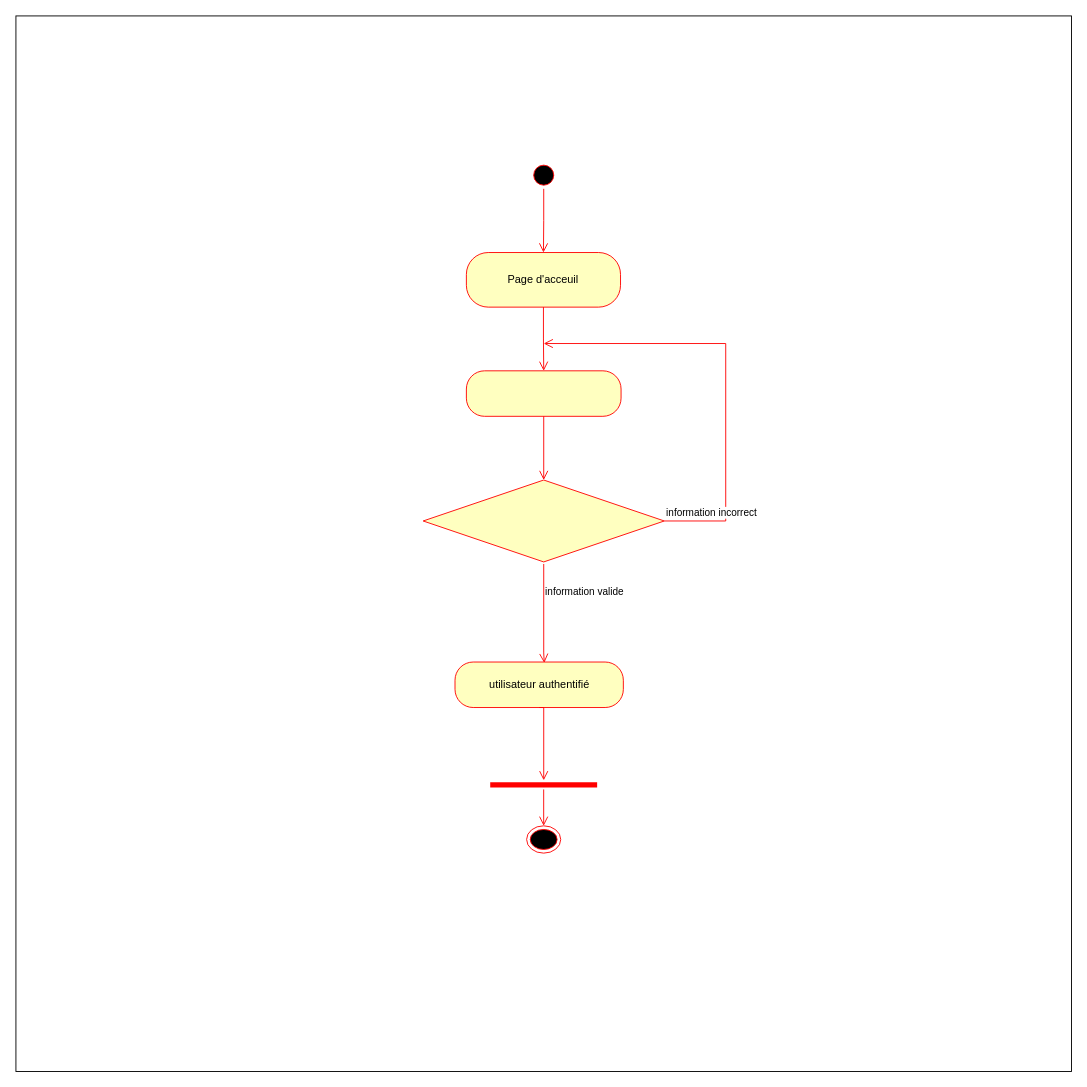
Some shapes in this 1087 by 1087 pixel diagram are drawn without their labels. The box of each missing label's shape, as (x1, y1, x2, y2) in pixels:
Authentification: (465, 370, 621, 416)
verification des information: (422, 479, 664, 562)
